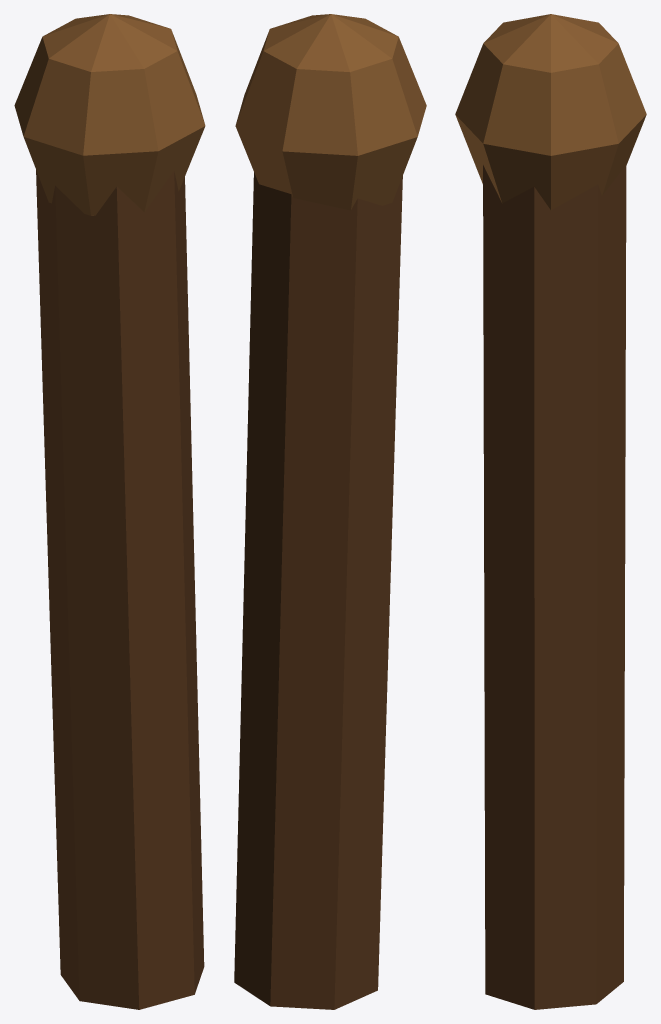
Rendered from knee_r.obj.
3 renders of one model, left to right at view 1: azimuth 30°, elevation 25°; view 2: azimuth 150°, elevation 25°; view 3: azimuth 270°, elevation 25°, orthographic.
Visible parts, largest first — view 1: Lower_wooden_shin_R, Knee_knot_R; view 2: Lower_wooden_shin_R, Knee_knot_R; view 3: Lower_wooden_shin_R, Knee_knot_R.
Part boxes in pixels (x1=…): Lower_wooden_shin_R: x1=36, y1=170, x2=204, y2=1009; Knee_knot_R: x1=14, y1=14, x2=205, y2=215; Lower_wooden_shin_R: x1=234, y1=172, x2=402, y2=1009; Knee_knot_R: x1=235, y1=14, x2=426, y2=210; Lower_wooden_shin_R: x1=483, y1=165, x2=626, y2=1009; Knee_knot_R: x1=455, y1=14, x2=646, y2=210.
Size of the model in its own units: 0.146 by 0.7835 by 0.142.
